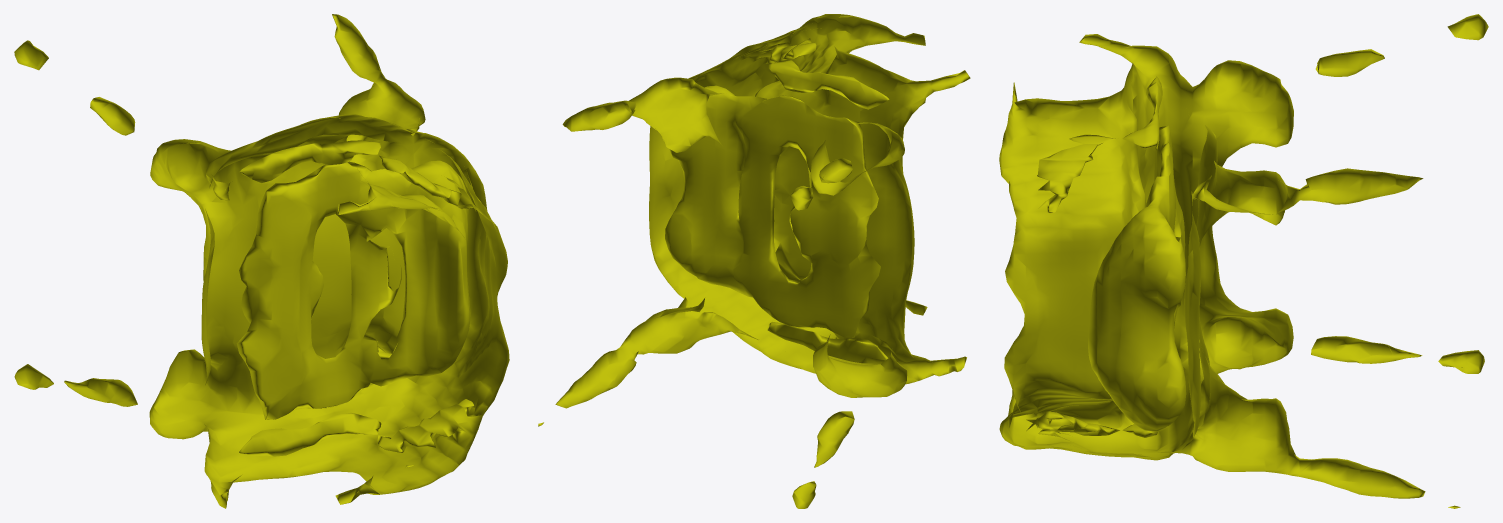
3 renders of one model, left to right at view 1: azimuth 30°, elevation 25°; view 2: azimuth 150°, elevation 25°; view 3: azimuth 270°, elevation 25°, orthographic. The views are drawn at different scales.
Parts seen in each view (by area): view 1: world; view 2: world; view 3: world.
Boxes of the visible parts, box(x1,y1,x2,y2) form: world: box(14, 14, 509, 508); world: box(538, 14, 970, 508); world: box(999, 14, 1488, 508).
Size of the model in its own units: 32.04 by 33.57 by 41.1.
